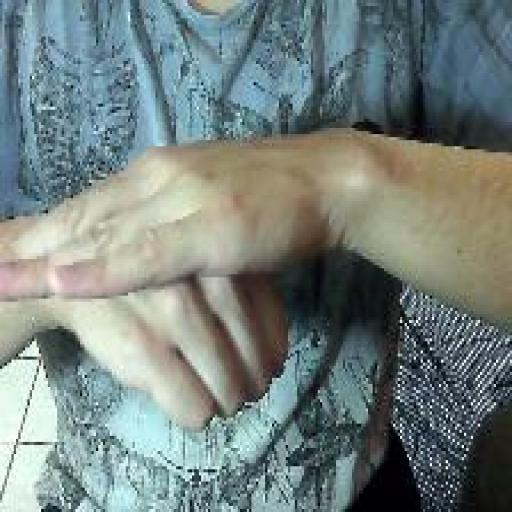Inu -dog-: (0, 136, 295, 437)
